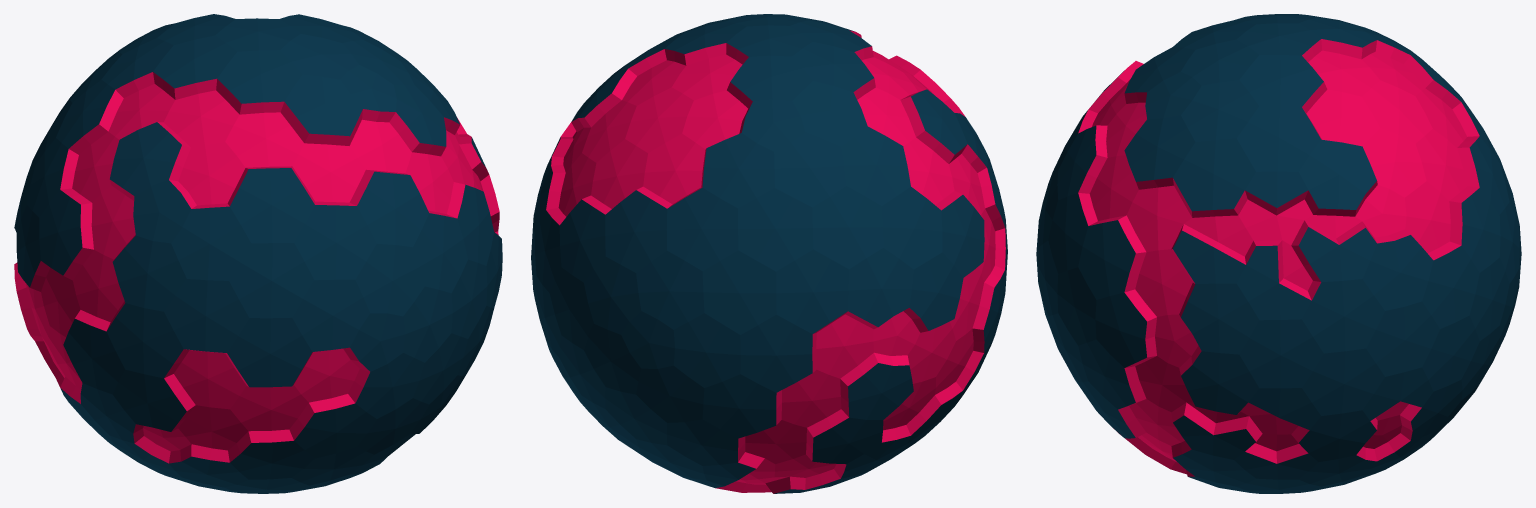
Rendered from Planet1Evo3.glb.
3 renders of one model, left to right at view 1: azimuth 30°, elevation 25°; view 2: azimuth 150°, elevation 25°; view 3: azimuth 270°, elevation 25°, orthographic.
Visible parts, largest first — view 1: Icosphere.010; view 2: Icosphere.010; view 3: Icosphere.010.
Boxes of the visible parts, x1,y1,x2,y2 form: Icosphere.010: (14, 14, 502, 493); Icosphere.010: (531, 14, 1007, 493); Icosphere.010: (1036, 14, 1521, 493).
Bounding box in the file's own units: 1.8 × 1.81 × 1.83.
